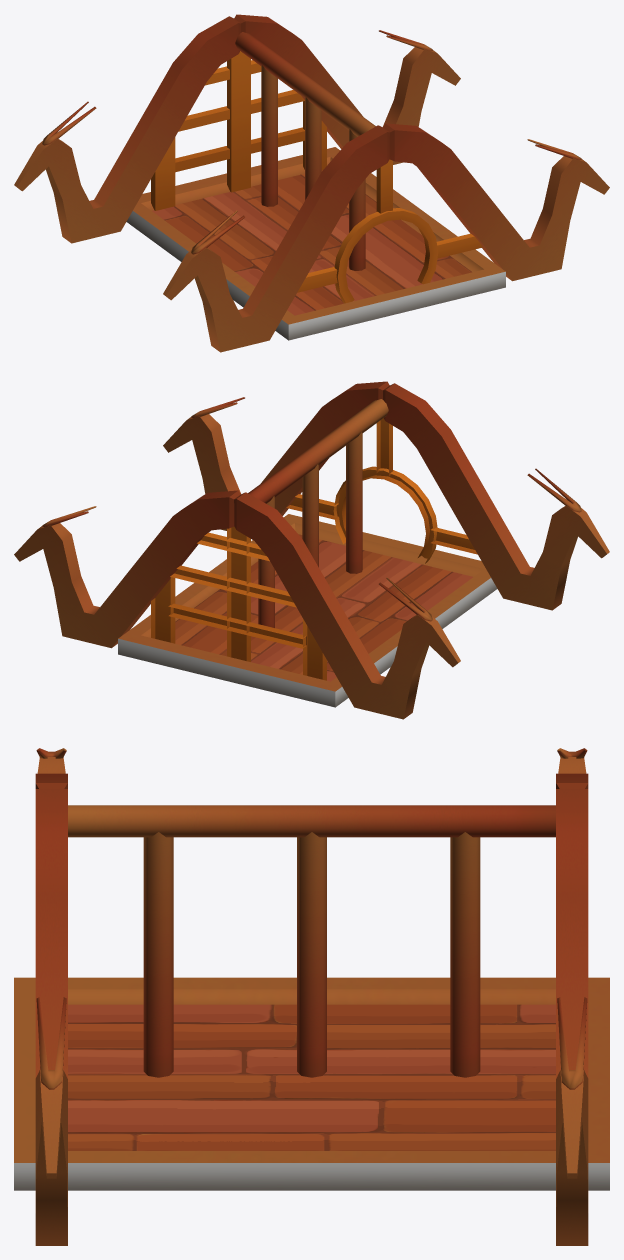
File: VikingHouse_04_L.fbx
3 renders of one model, top to bottom at view 1: azimuth 30°, elevation 25°; view 2: azimuth 150°, elevation 25°; view 3: azimuth 270°, elevation 25°, orthographic. The views are drawn at different scales.
Visible parts, largest first — view 1: VikingHouse_04_L; view 2: VikingHouse_04_L; view 3: VikingHouse_04_L.
Part boxes in pixels (x1=…): VikingHouse_04_L: x1=14, y1=14, x2=609, y2=352; VikingHouse_04_L: x1=14, y1=381, x2=609, y2=719; VikingHouse_04_L: x1=14, y1=748, x2=609, y2=1245.
Size of the model in its own units: 731 by 283 by 486.
